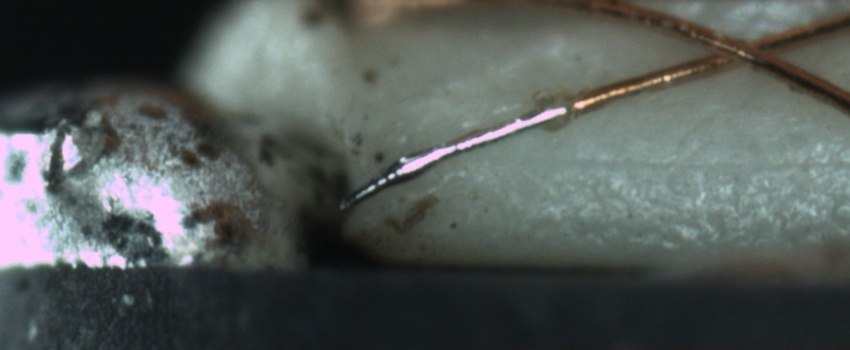CL: (690, 23, 784, 75)
DL: (567, 128, 850, 186)
TS: (333, 101, 569, 212)
TTCW: (327, 76, 632, 225)
